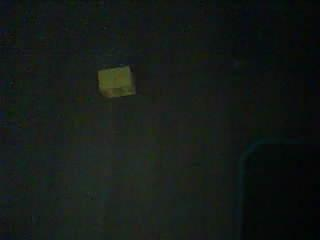lego: (97, 64, 137, 97)
